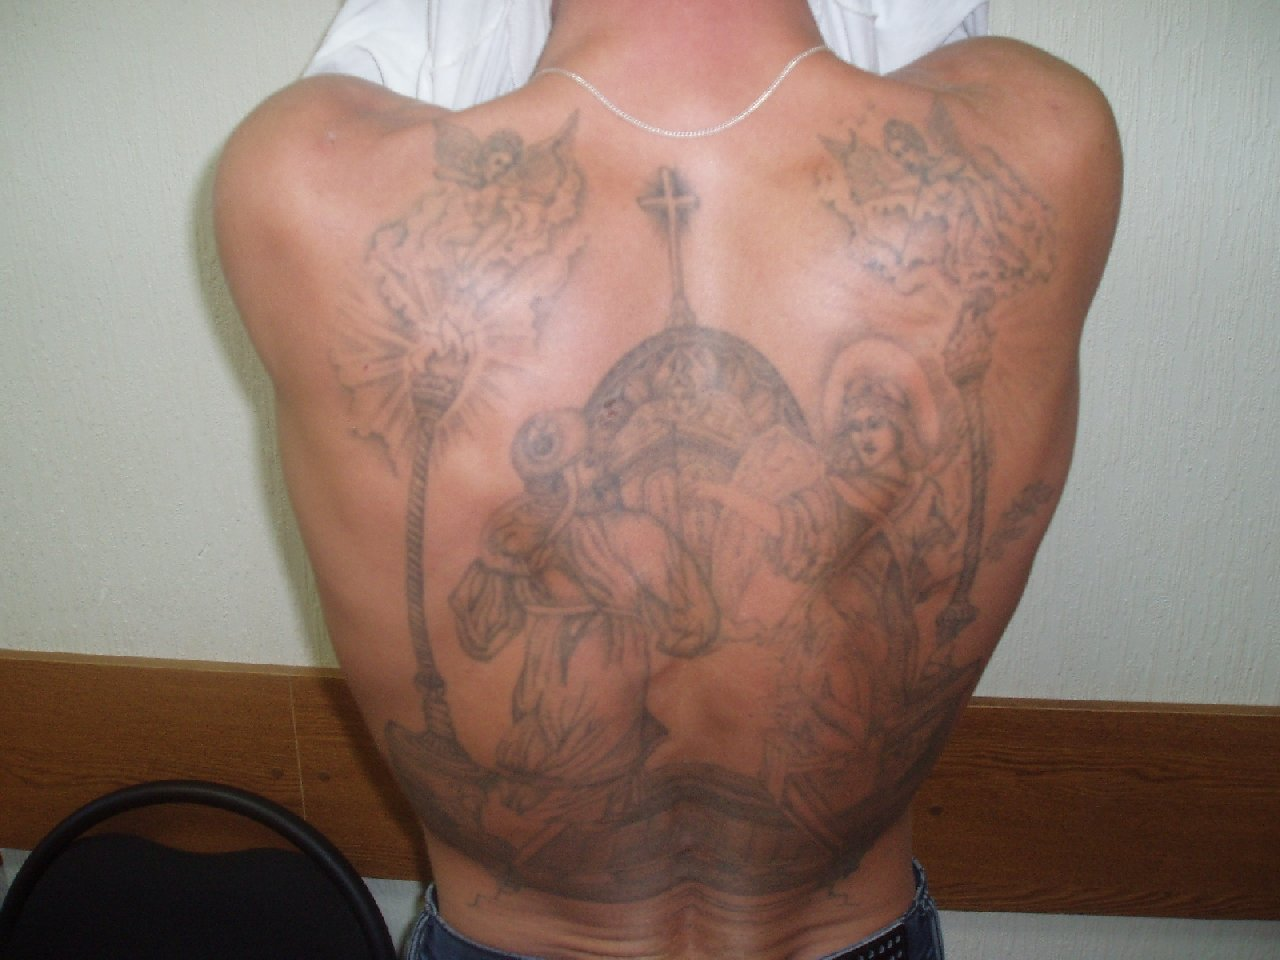tatu1_angel: (776, 87, 1100, 326), (348, 119, 614, 344)
